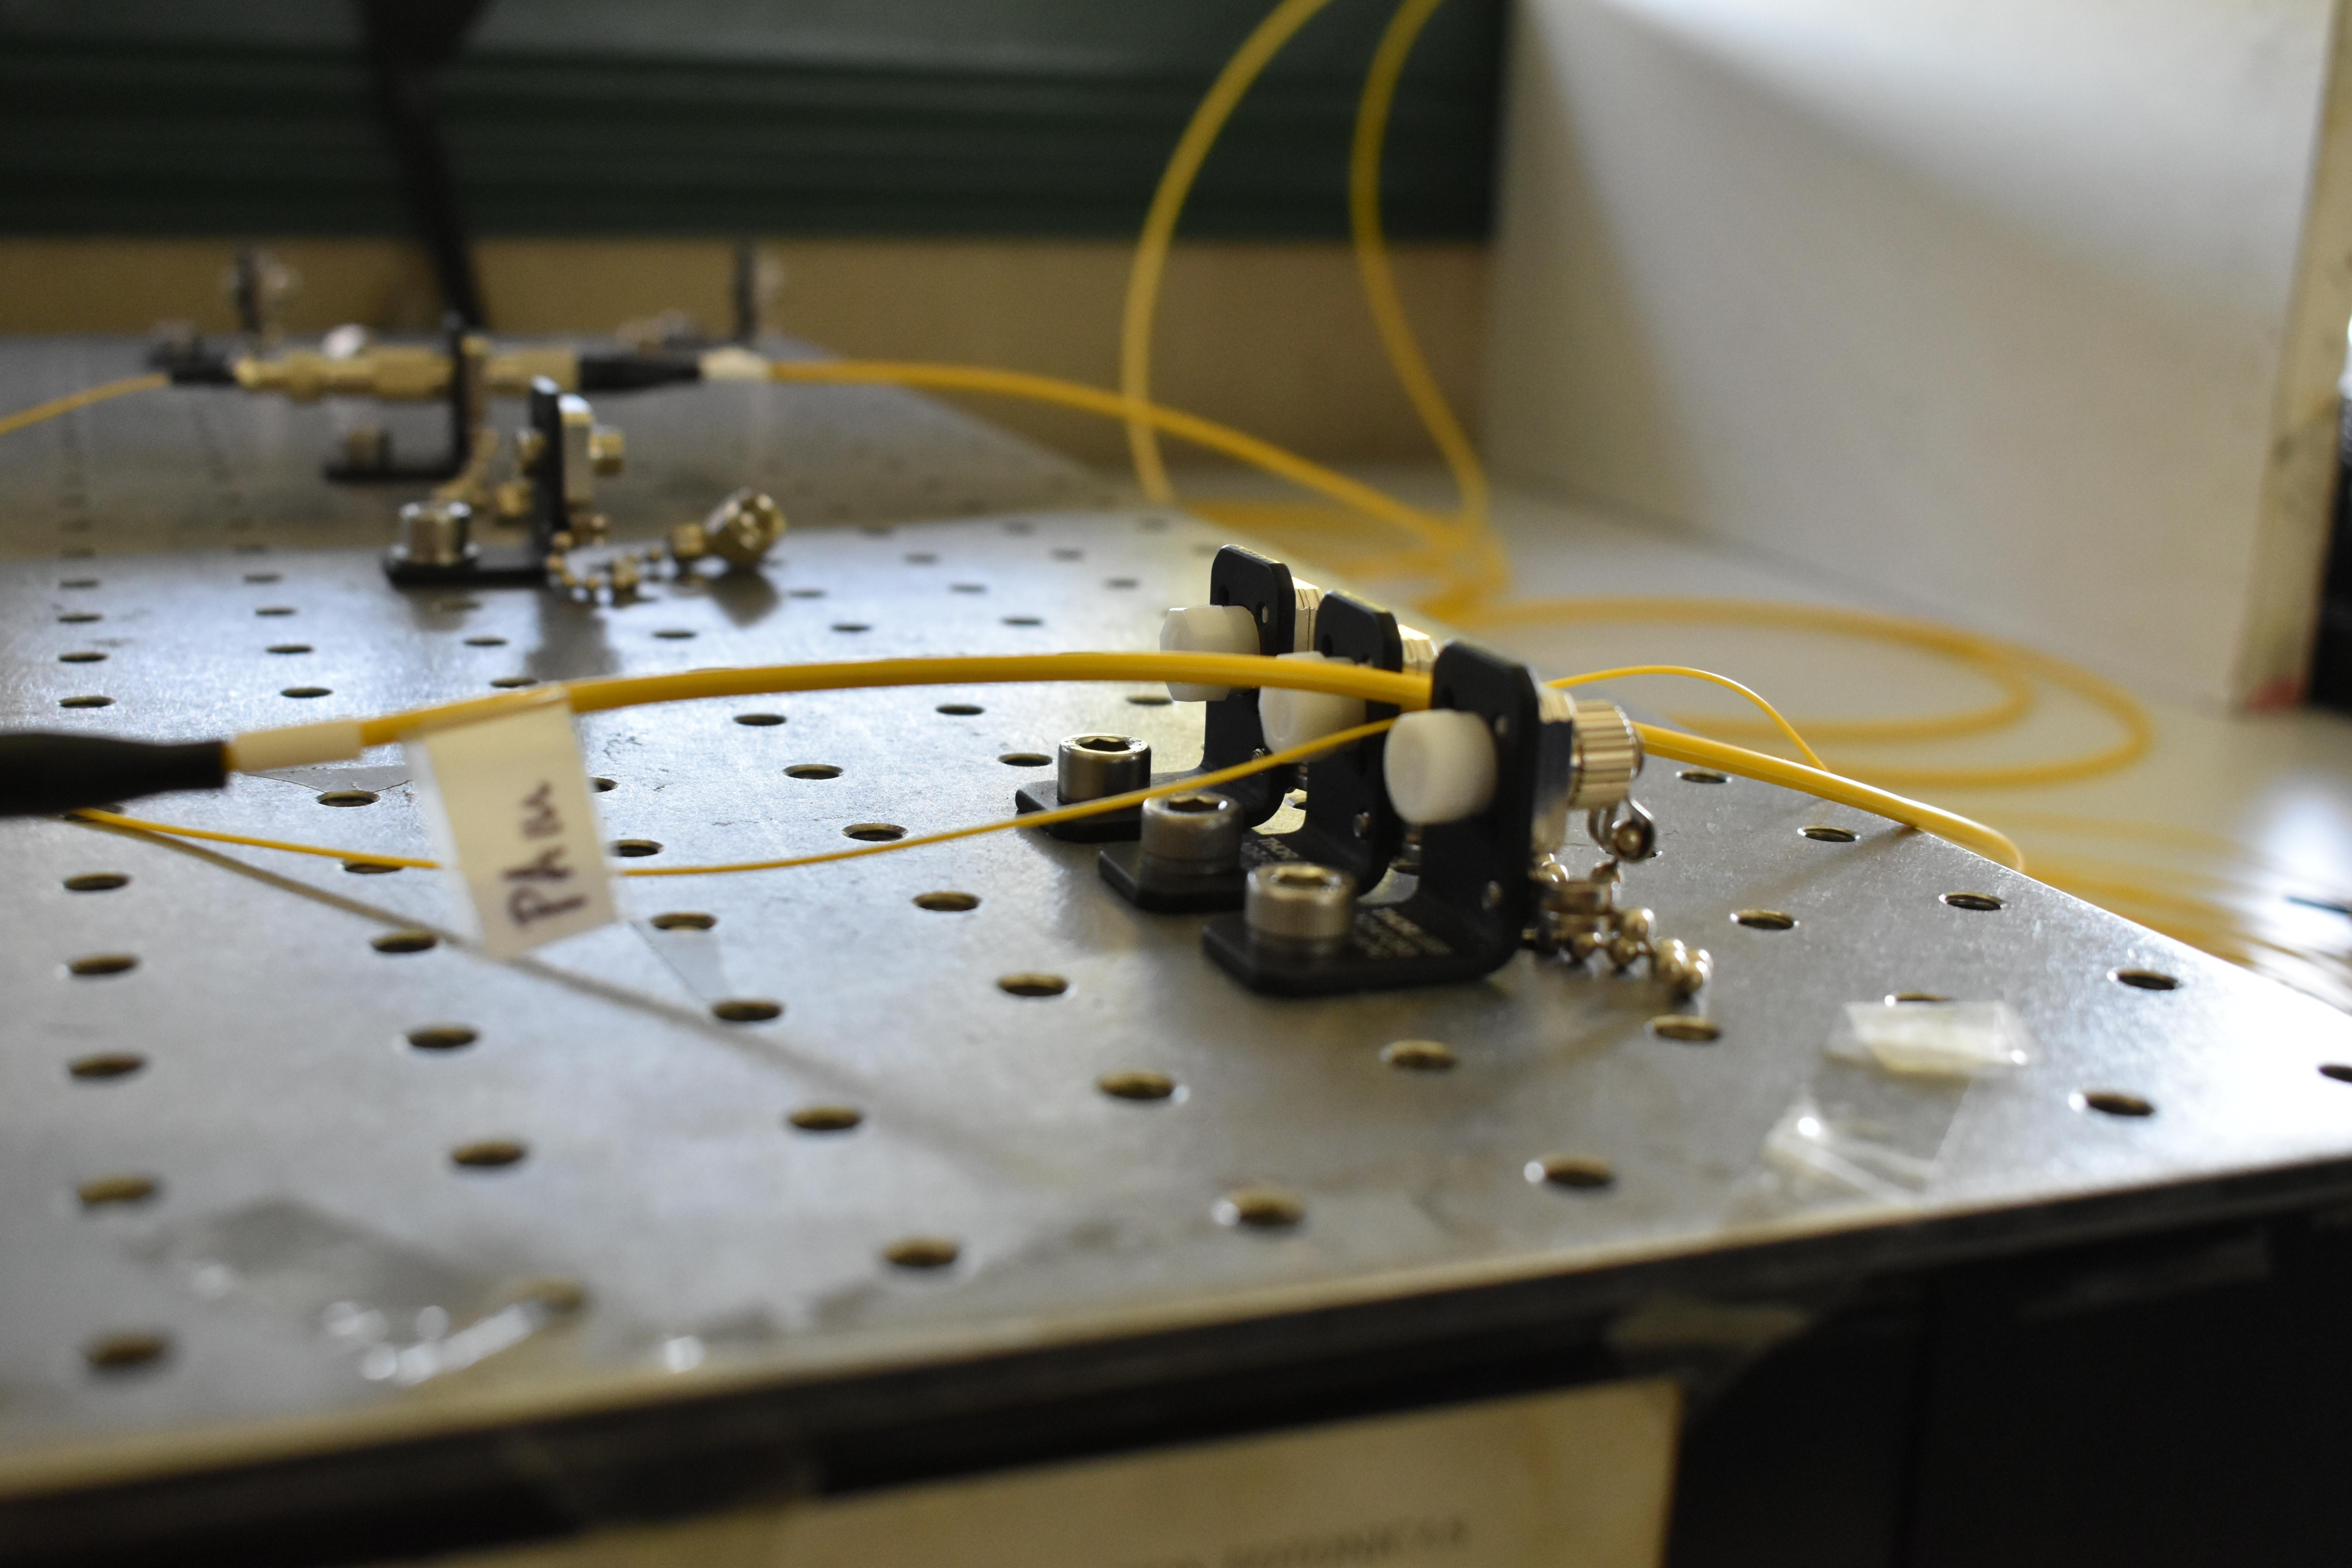fiber_cable: (0, 649, 2032, 878)
